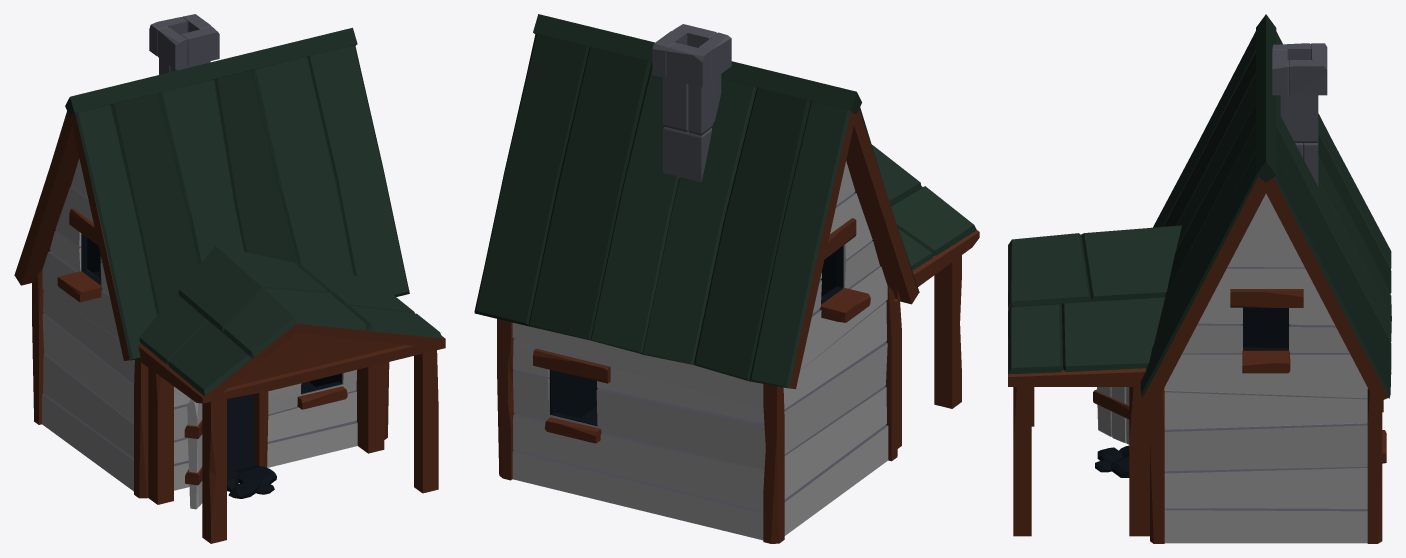
The model's file is House_8.fbx.
3 renders of one model, left to right at view 1: azimuth 30°, elevation 25°; view 2: azimuth 150°, elevation 25°; view 3: azimuth 270°, elevation 25°, orthographic. The views are drawn at different scales.
Visible parts, largest first — view 1: House_8; view 2: House_8; view 3: House_8.
Boxes of the visible parts, left/top/right/bottom form: House_8: left=14, top=14, right=445, bottom=543; House_8: left=474, top=14, right=979, bottom=543; House_8: left=1008, top=14, right=1391, bottom=543.
Size of the model in its own units: 143 by 187 by 155.
